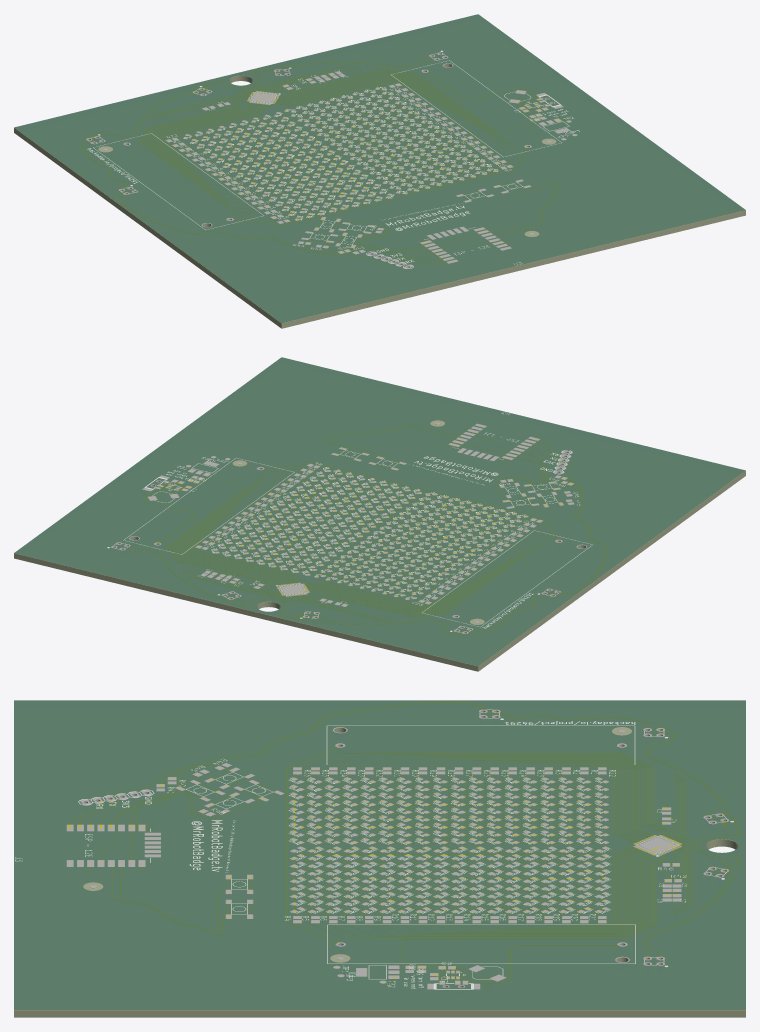
The model's file is mr-robot-badge-mk-2.glb.
3 views of the same model, one above another, from view 1: azimuth 30°, elevation 25°; view 2: azimuth 150°, elevation 25°; view 3: azimuth 270°, elevation 25° (orthographic). The views are drawn at different scales.
Parts seen in each view (by area): view 1: =>[0:1:1:6], =>[0:1:1:8], =>[0:1:1:2], =>[0:1:1:5]; view 2: =>[0:1:1:6], =>[0:1:1:8], =>[0:1:1:2], =>[0:1:1:5]; view 3: =>[0:1:1:6], =>[0:1:1:8], =>[0:1:1:2], =>[0:1:1:5].
Boxes of the visible parts, box(x1,y1,x2,y2) form: =>[0:1:1:6]: box(14, 14, 745, 328); =>[0:1:1:8]: box(14, 15, 745, 328); =>[0:1:1:2]: box(81, 52, 577, 269); =>[0:1:1:5]: box(87, 50, 579, 268); =>[0:1:1:6]: box(14, 357, 745, 671); =>[0:1:1:8]: box(14, 358, 745, 671); =>[0:1:1:2]: box(111, 422, 607, 633); =>[0:1:1:5]: box(107, 412, 592, 632); =>[0:1:1:6]: box(14, 700, 745, 1017); =>[0:1:1:8]: box(14, 701, 745, 1017); =>[0:1:1:2]: box(67, 702, 740, 989); =>[0:1:1:5]: box(15, 709, 733, 989).
Bounding box in the file's own units: 0.1428 × 0.00163 × 0.1426.
Materials: 4 (4 with a texture image).
